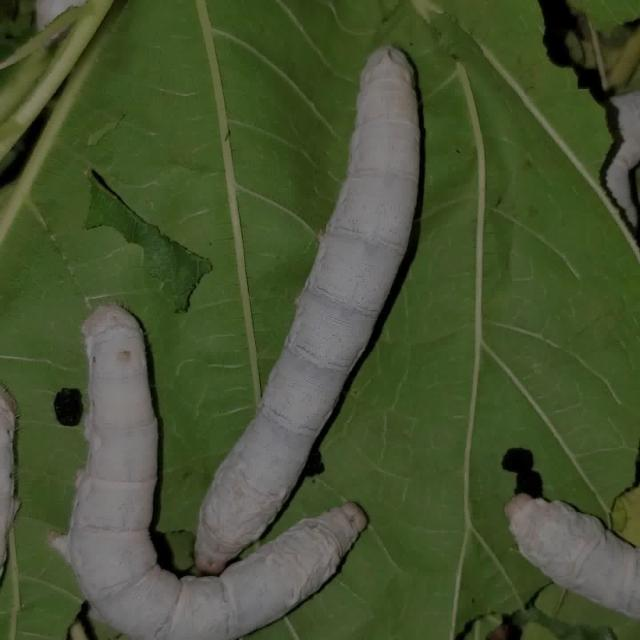Healthy: (49, 34, 470, 640)
